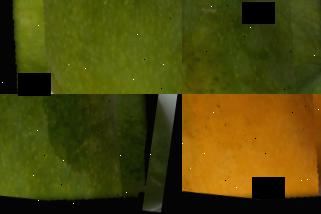Ripe: (182, 94, 321, 214)
Unripe: (0, 94, 160, 214), (0, 0, 182, 94), (182, 0, 321, 94)
